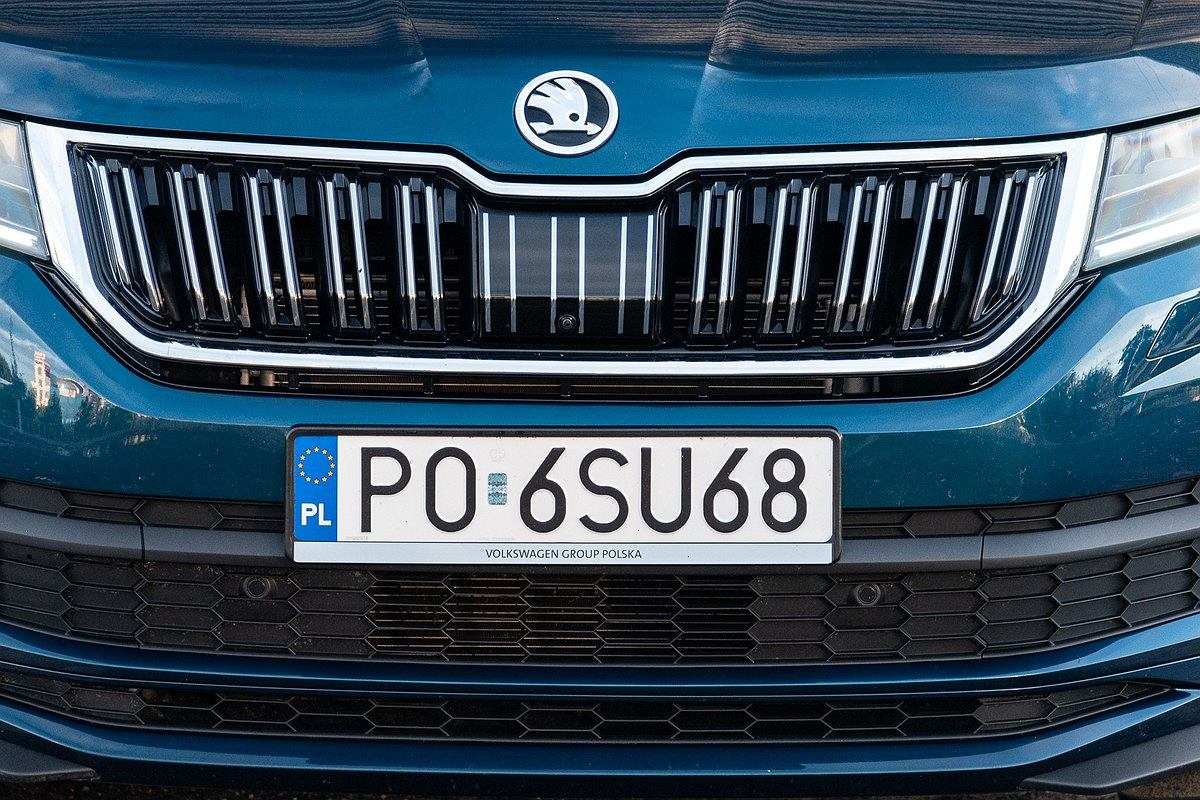number_plate: (290, 425, 837, 570)
